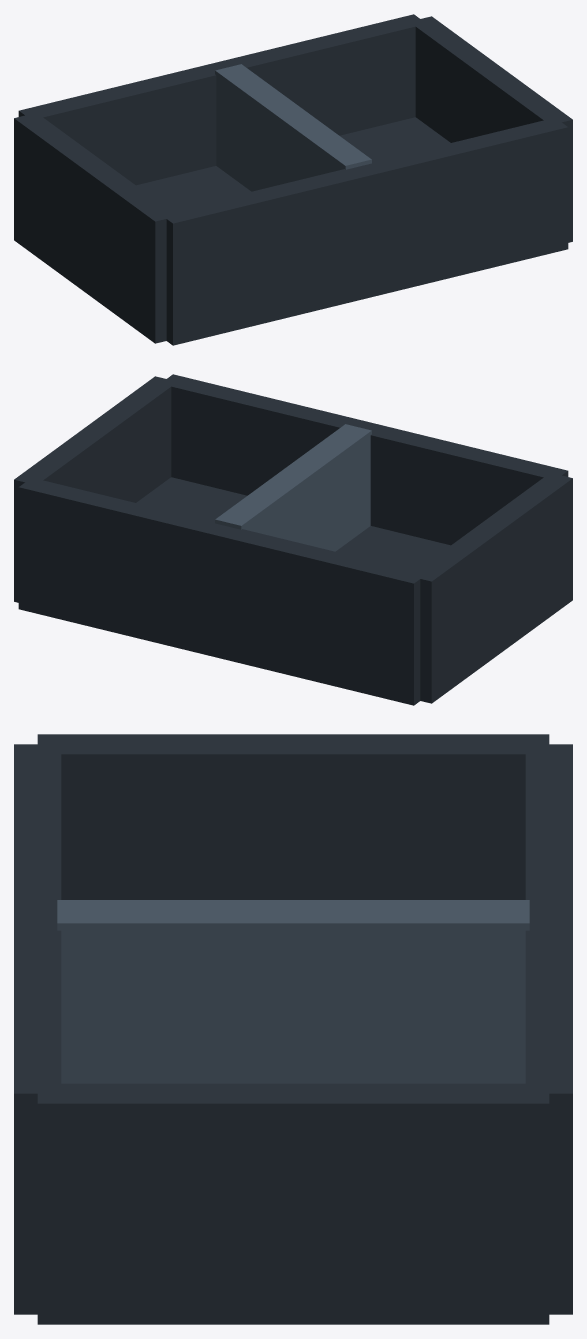
The model's file is L-39_slag_mould.glb.
3 renders of one model, top to bottom at view 1: azimuth 30°, elevation 25°; view 2: azimuth 150°, elevation 25°; view 3: azimuth 270°, elevation 25°, orthographic. The views are drawn at different scales.
Visible parts, largest first — view 1: L-39_slag_mould; view 2: L-39_slag_mould; view 3: L-39_slag_mould.
Part boxes in pixels (left/top/right/bottom): L-39_slag_mould: left=14, top=14, right=572, bottom=345; L-39_slag_mould: left=14, top=374, right=572, bottom=705; L-39_slag_mould: left=14, top=734, right=572, bottom=1324.
Size of the model in its own units: 0.222 by 0.064 by 0.142.
